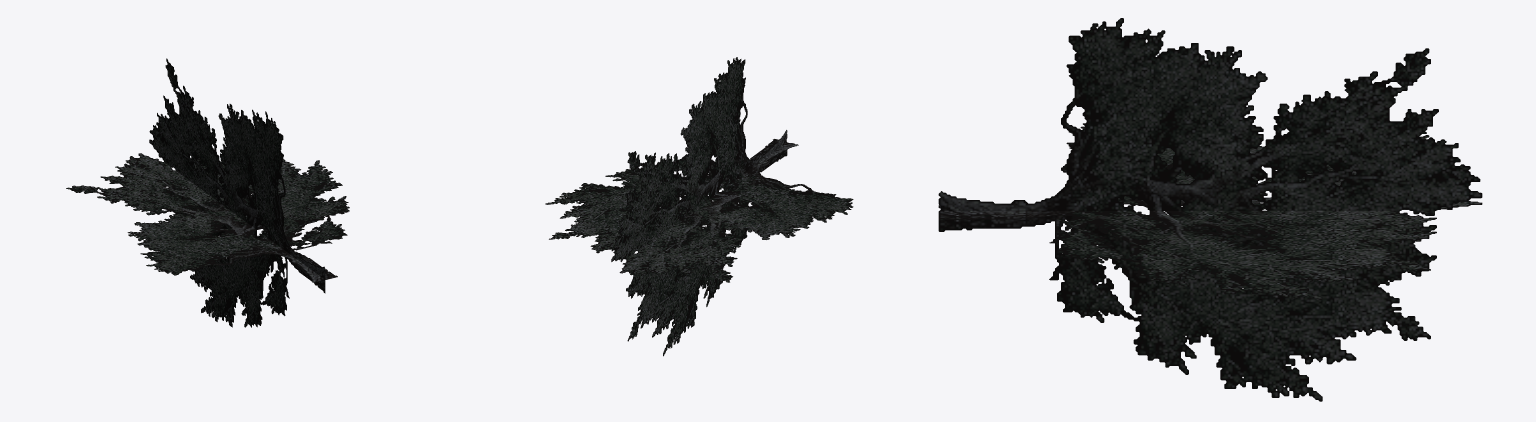
File: SM_EC_Tree_Cross_07.fbx
The picture shows the model from 3 angles, left to right: view 1: azimuth 30°, elevation 25°; view 2: azimuth 150°, elevation 25°; view 3: azimuth 270°, elevation 25°; orthographic projection. The views are drawn at different scales.
Visible parts, largest first — view 1: SM_EC_Tree_Cross_07; view 2: SM_EC_Tree_Cross_07; view 3: SM_EC_Tree_Cross_07.
Boxes of the visible parts, x1,y1,x2,y2 form: SM_EC_Tree_Cross_07: [66, 58, 349, 327]; SM_EC_Tree_Cross_07: [545, 57, 853, 356]; SM_EC_Tree_Cross_07: [938, 18, 1482, 401].
Bounding box in the file's own units: 3.45 × 4.63 × 3.45.
